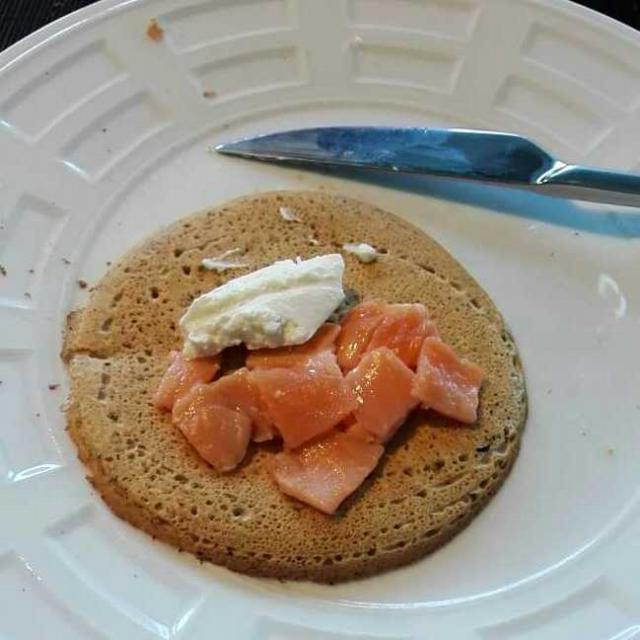cream-cheese: (156, 240, 348, 357), (161, 248, 354, 358)
crepe-plain: (82, 185, 543, 597), (63, 189, 540, 570), (162, 238, 455, 530)
salmon-smoked: (166, 253, 484, 520), (137, 291, 524, 483)
